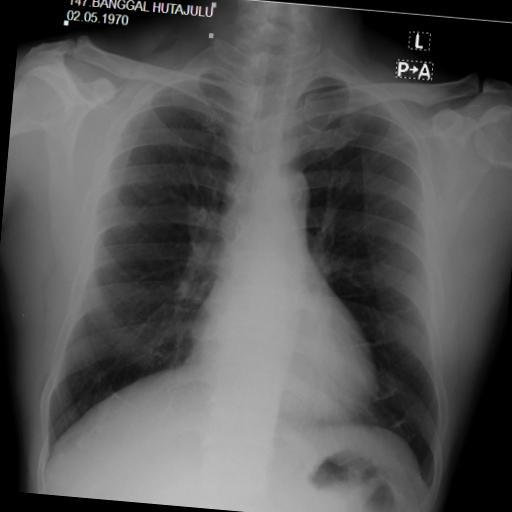kardiomegali: (33, 23, 480, 504)
